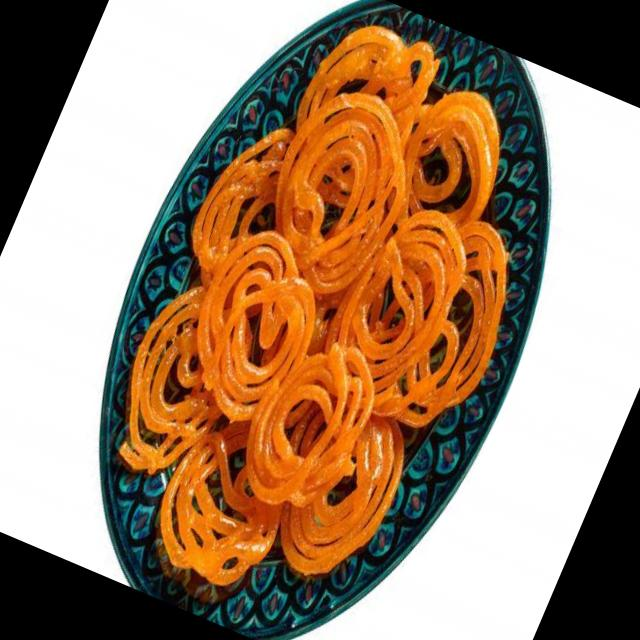jalebi: (53, 0, 595, 640)
